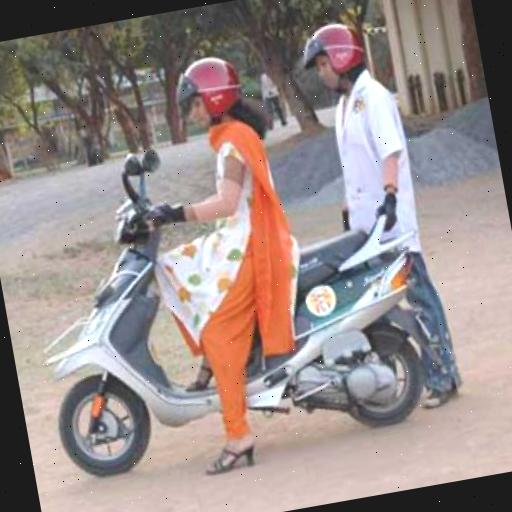helmet: (0, 36, 337, 497)
